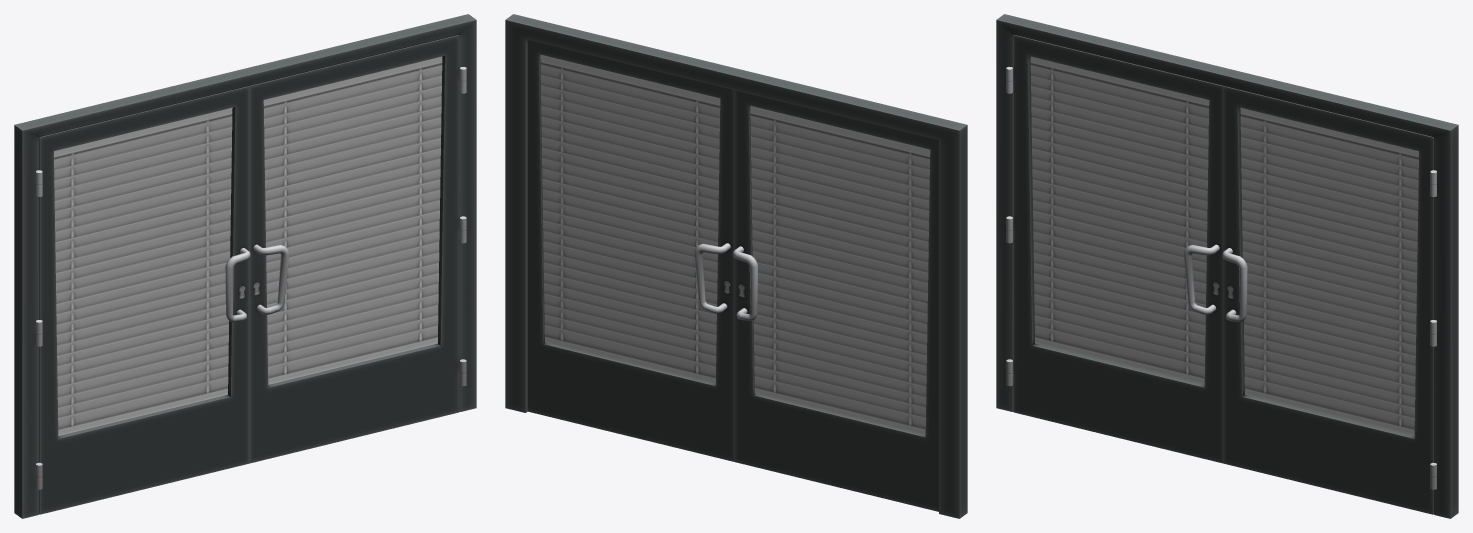
Rendered from PropDoor03TypeB.FBX.
3 renders of one model, left to right at view 1: azimuth 30°, elevation 25°; view 2: azimuth 150°, elevation 25°; view 3: azimuth 330°, elevation 25°, orthographic.
Parts seen in each view (by area): view 1: GlassL, GlassR, DoorR, DoorL, Frame; view 2: GlassL, GlassR, Frame, DoorR, DoorL; view 3: GlassR, GlassL, DoorL, DoorR, Frame.
Boxes of the visible parts, left/top/right/bottom form: GlassL: left=54, top=107, right=232, bottom=435; GlassR: left=263, top=56, right=442, bottom=384; DoorR: left=249, top=35, right=466, bottom=463; DoorL: left=36, top=86, right=250, bottom=514; Frame: left=14, top=14, right=476, bottom=518; GlassL: left=750, top=106, right=930, bottom=435; GlassR: left=540, top=54, right=720, bottom=384; Frame: left=505, top=14, right=967, bottom=518; DoorR: left=527, top=40, right=734, bottom=461; DoorL: left=733, top=90, right=938, bottom=511; GlassR: left=1240, top=107, right=1418, bottom=435; GlassL: left=1030, top=56, right=1209, bottom=384; DoorL: left=1006, top=35, right=1223, bottom=463; DoorR: left=1222, top=86, right=1436, bottom=514; Frame: left=996, top=14, right=1458, bottom=518.
Size of what is drawn, in the model's own units: 3 by 2.45 by 0.3031.
